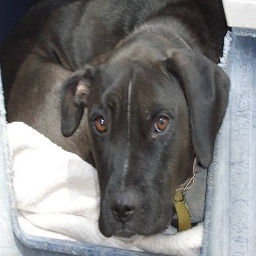dog: (7, 0, 230, 238)
